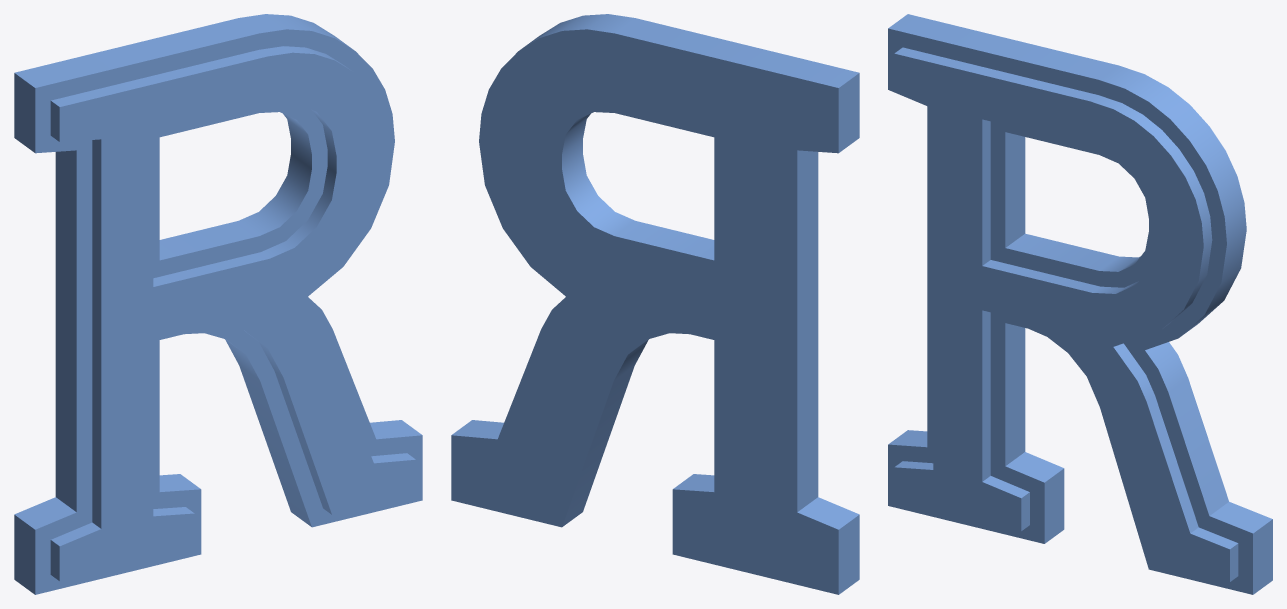
The model's file is uploads_files_2164752_R1.FBX.
3 views of the same model, side by side, from view 1: azimuth 30°, elevation 25°; view 2: azimuth 150°, elevation 25°; view 3: azimuth 330°, elevation 25° (orthographic). The views are drawn at different scales.
Parts seen in each view (by area): view 1: R; view 2: R; view 3: R.
Part boxes in pixels (bbox=[...]): R: bbox=[14, 14, 422, 594]; R: bbox=[451, 14, 859, 594]; R: bbox=[888, 14, 1272, 594].
Bounding box in the file's own units: 3.73 × 4.67 × 0.5.
